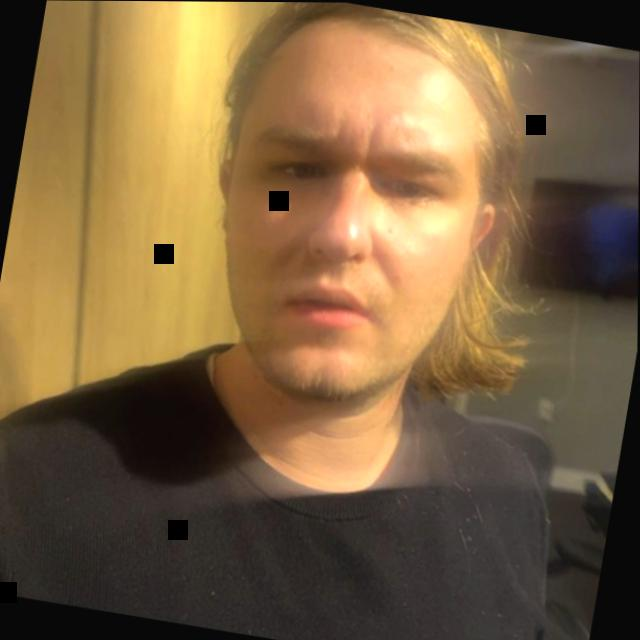NO-Mask: (165, 1, 554, 481)
